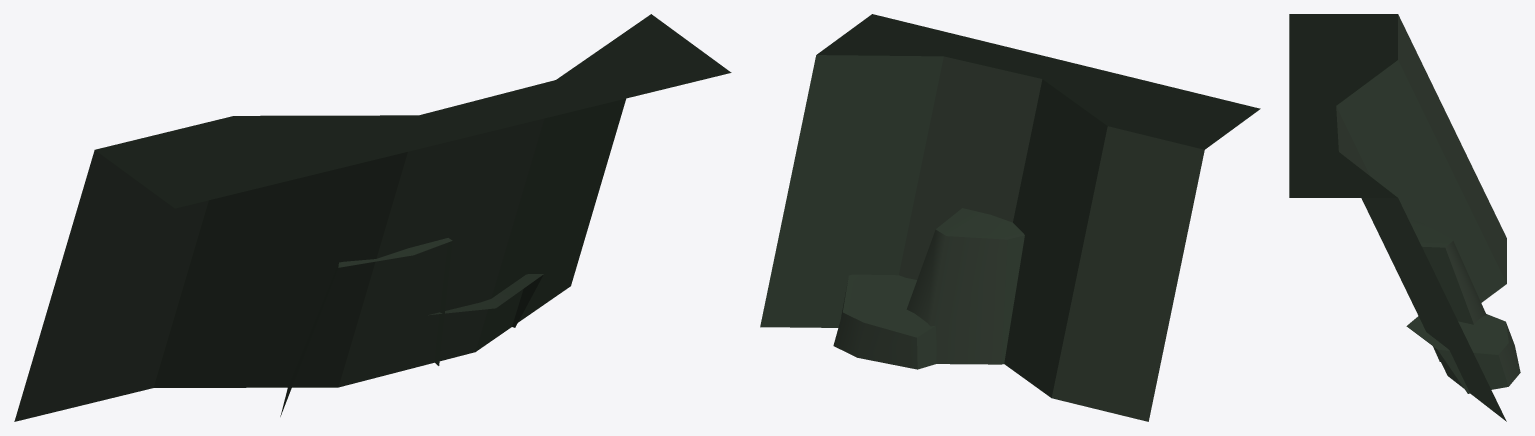
The model's file is SF_Env_CliffEdge_Straight_03.glb.
The picture shows the model from 3 angles, left to right: view 1: azimuth 30°, elevation 25°; view 2: azimuth 150°, elevation 25°; view 3: azimuth 270°, elevation 25°; orthographic projection. The views are drawn at different scales.
Parts seen in each view (by area): view 1: SF_Env_CliffEdge_Straight_03; view 2: SF_Env_CliffEdge_Straight_03; view 3: SF_Env_CliffEdge_Straight_03.
Boxes of the visible parts, x1,y1,x2,y2 form: SF_Env_CliffEdge_Straight_03: [14, 14, 731, 421]; SF_Env_CliffEdge_Straight_03: [760, 14, 1260, 421]; SF_Env_CliffEdge_Straight_03: [1289, 14, 1520, 421].
Size of the model in its own units: 0.1 by 0.0568 by 0.0532.
Materials: 1 (1 with a texture image).
